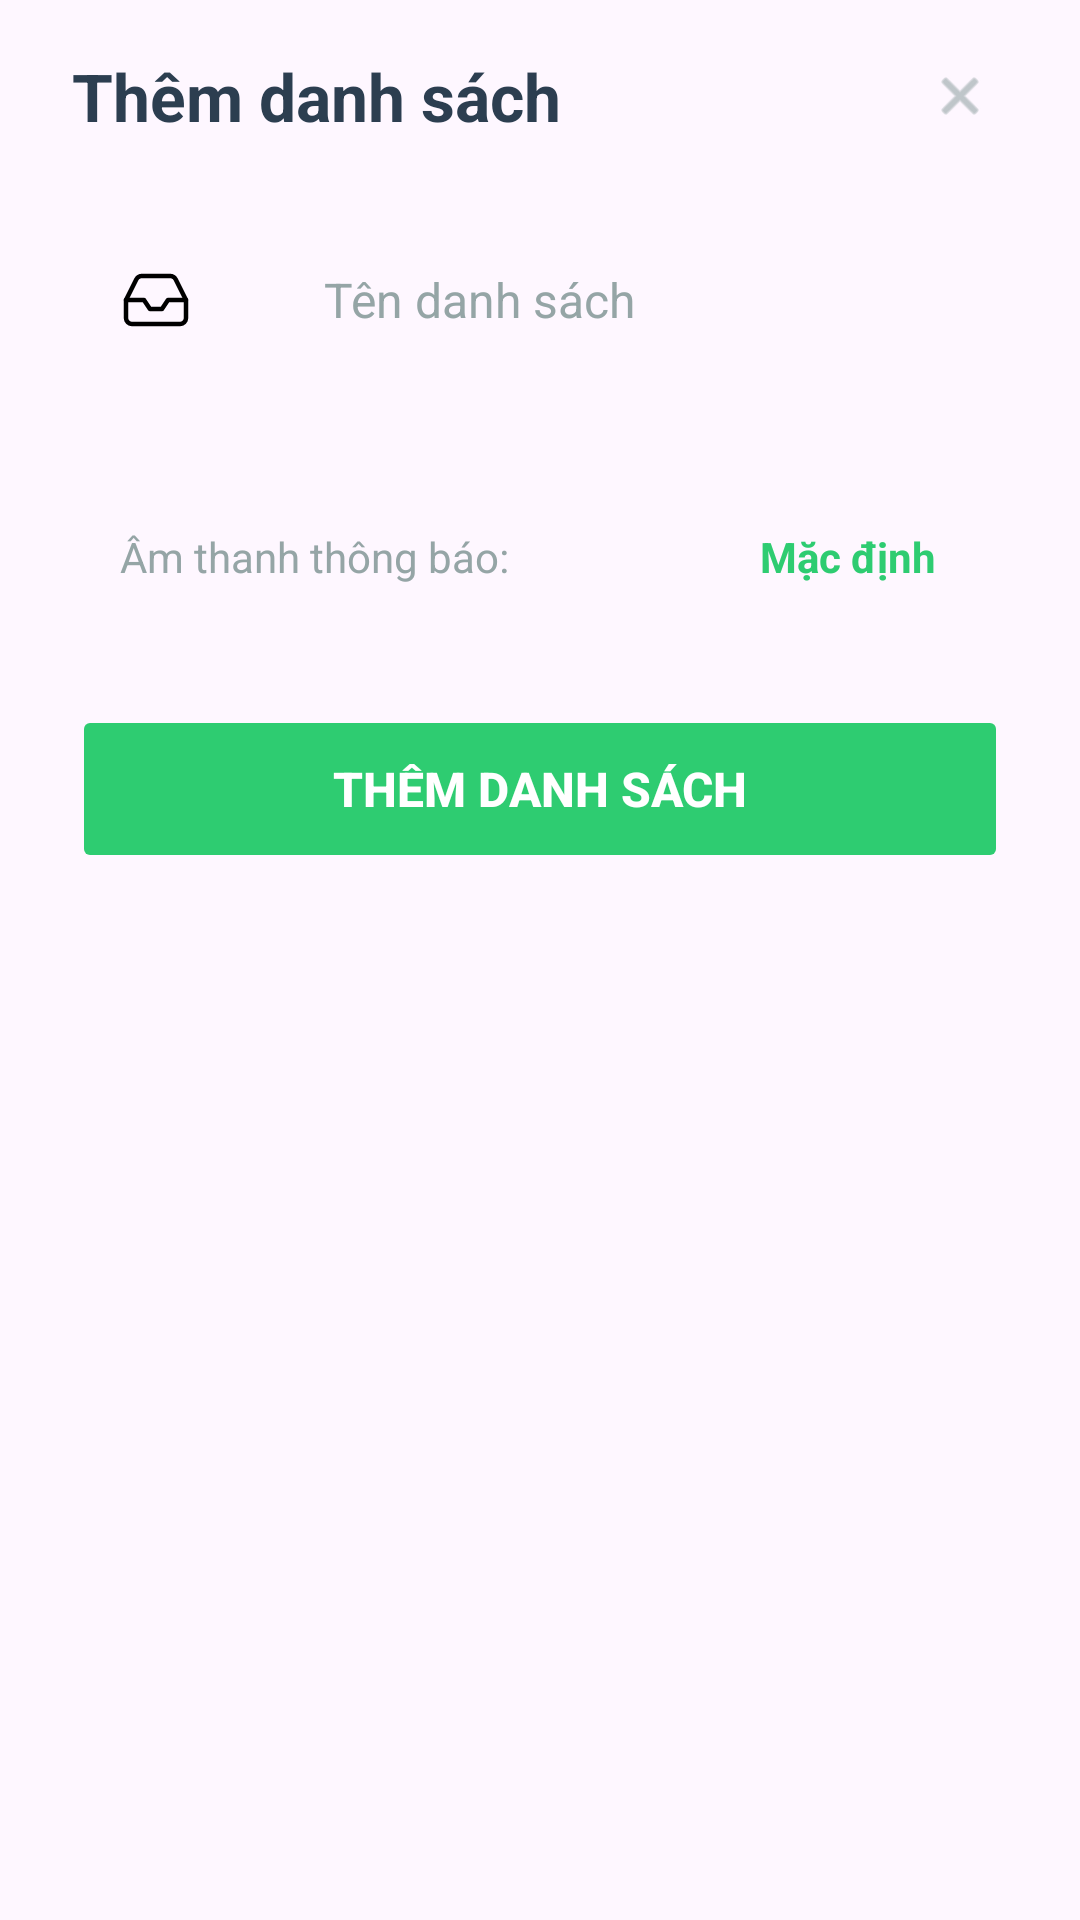

Named icons in this screenshot (1080 × 1920) and their centers, (x,y):
close clear cancel: (960,96)
inbox: (156,300)
